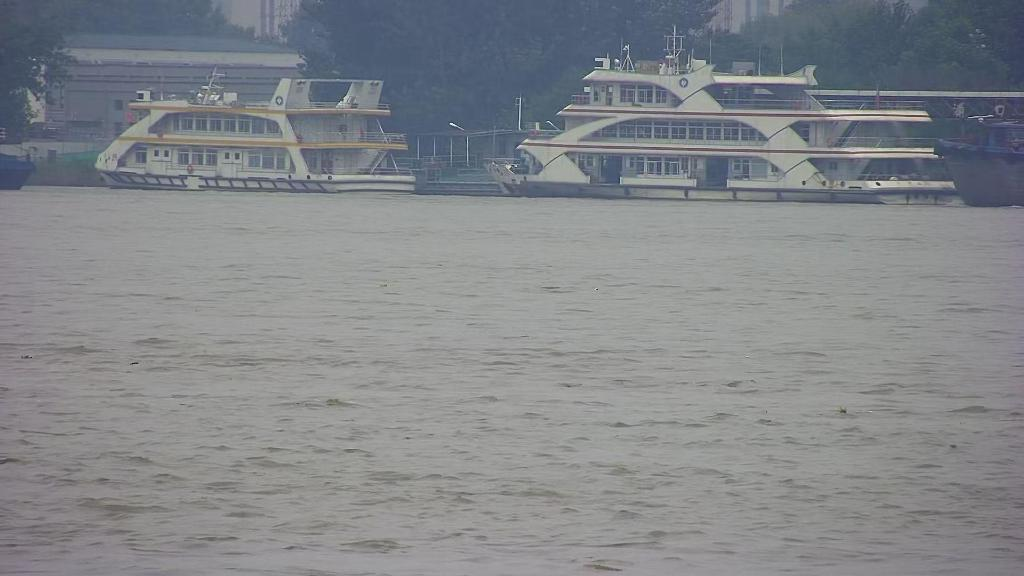PassengerShip: (474, 26, 960, 206), (88, 74, 420, 194)
